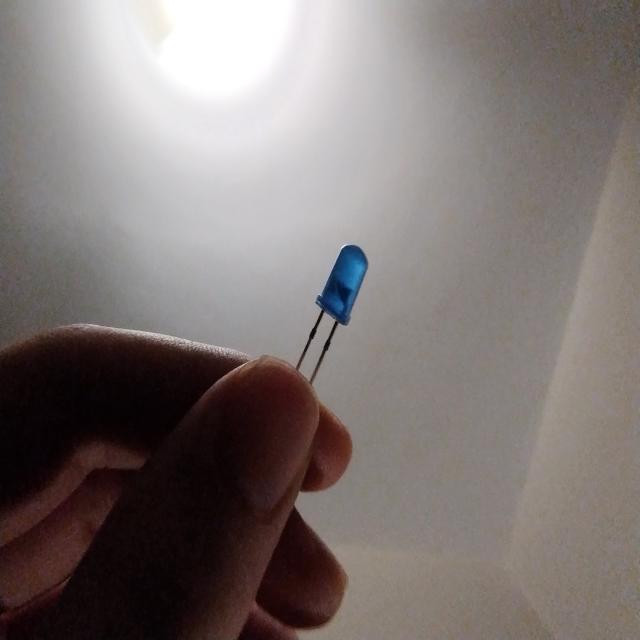blue_led: (299, 232, 370, 415)
